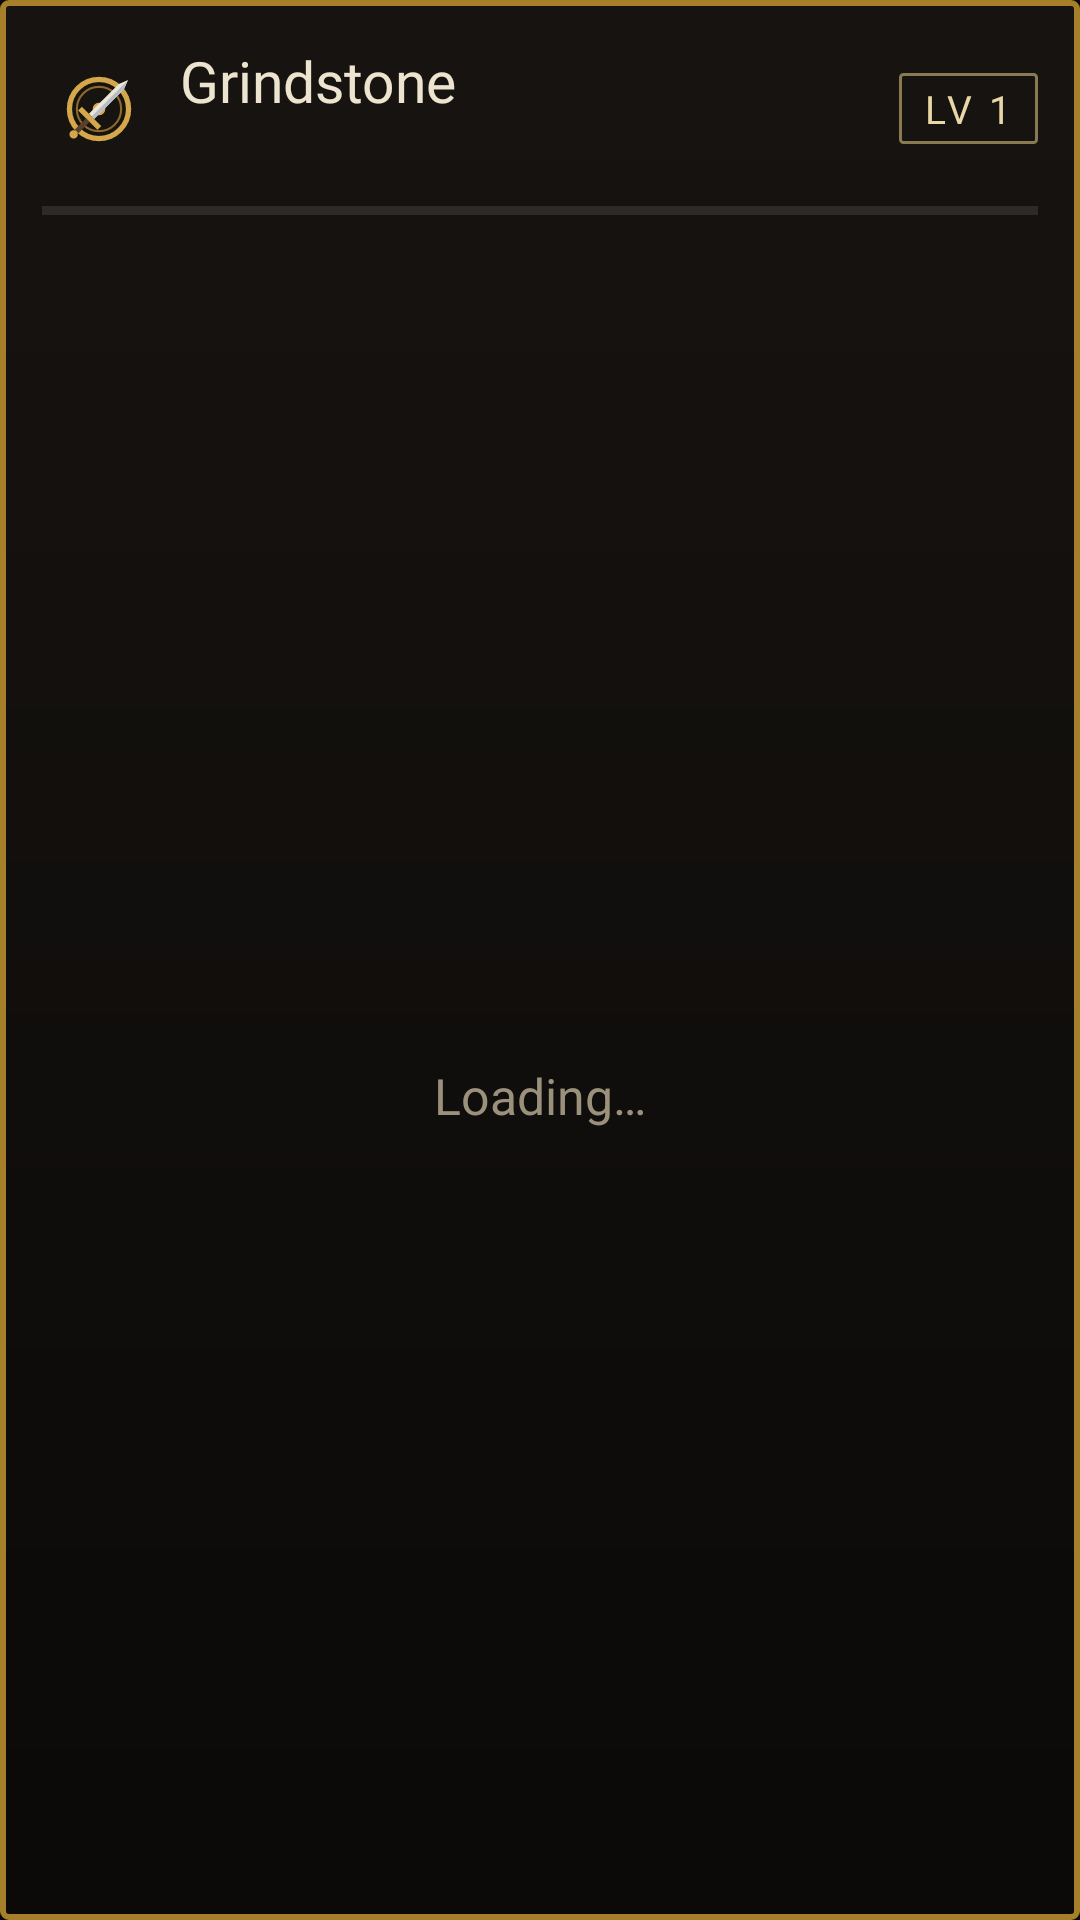

Icon click points for this 1080x1920 phone screenshot, format (x=x, y=y):
emblem: (x=99, y=109)
